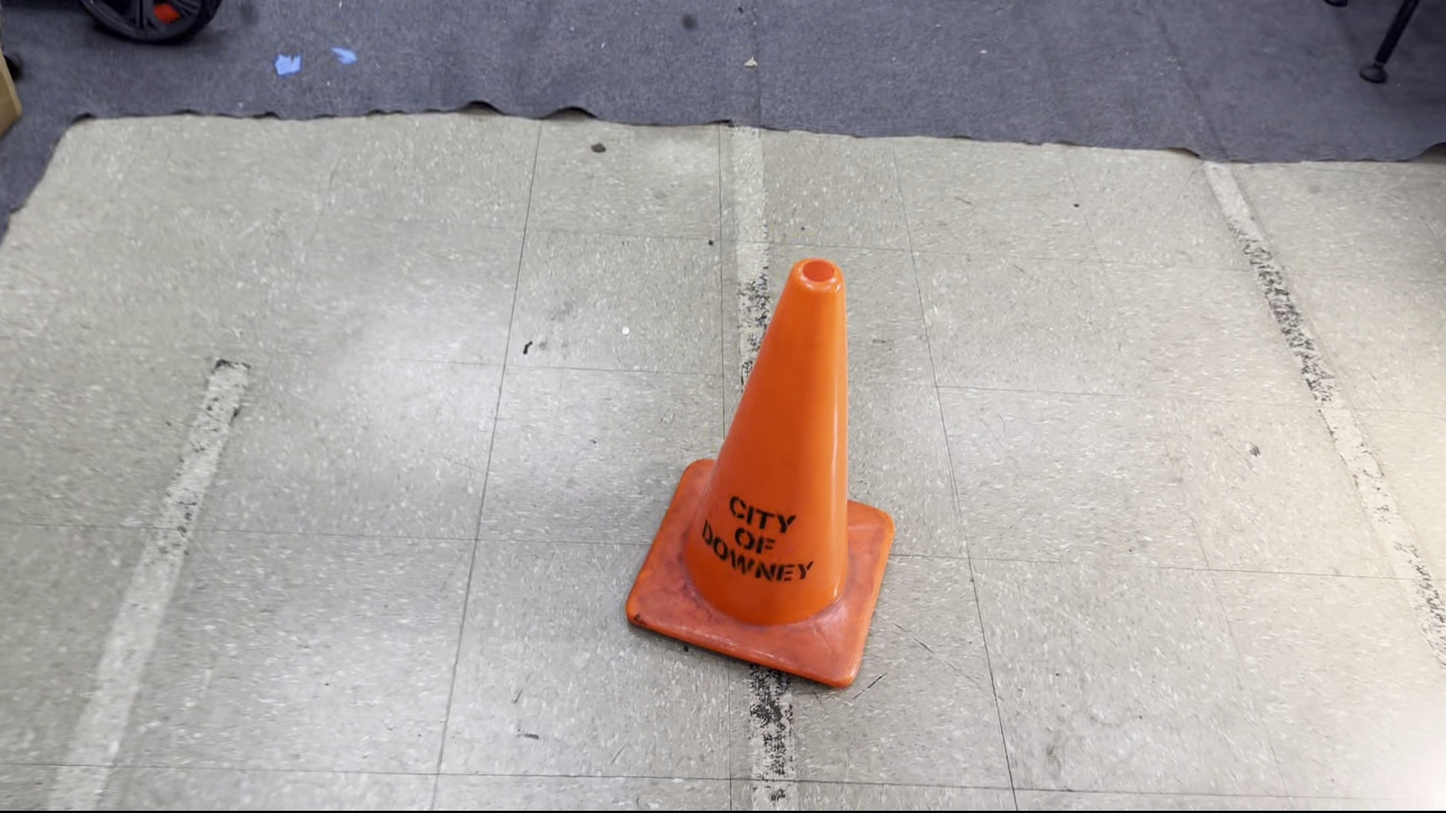traffic_cone: (624, 256, 896, 689)
